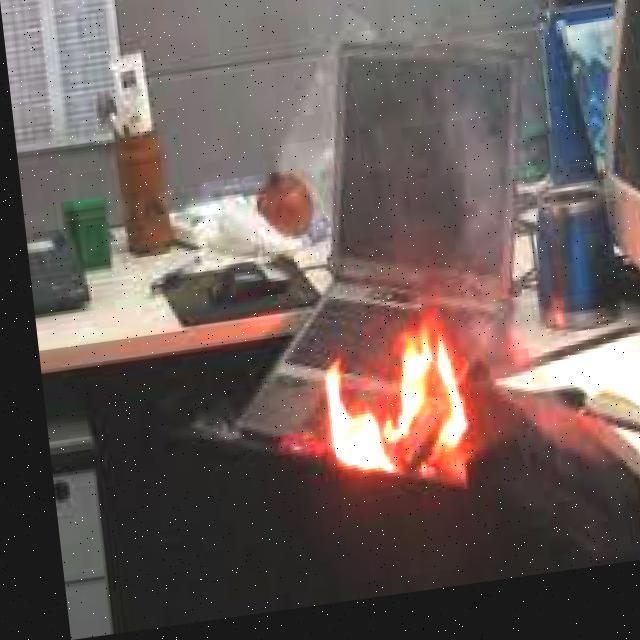Fire: (310, 337, 466, 499)
